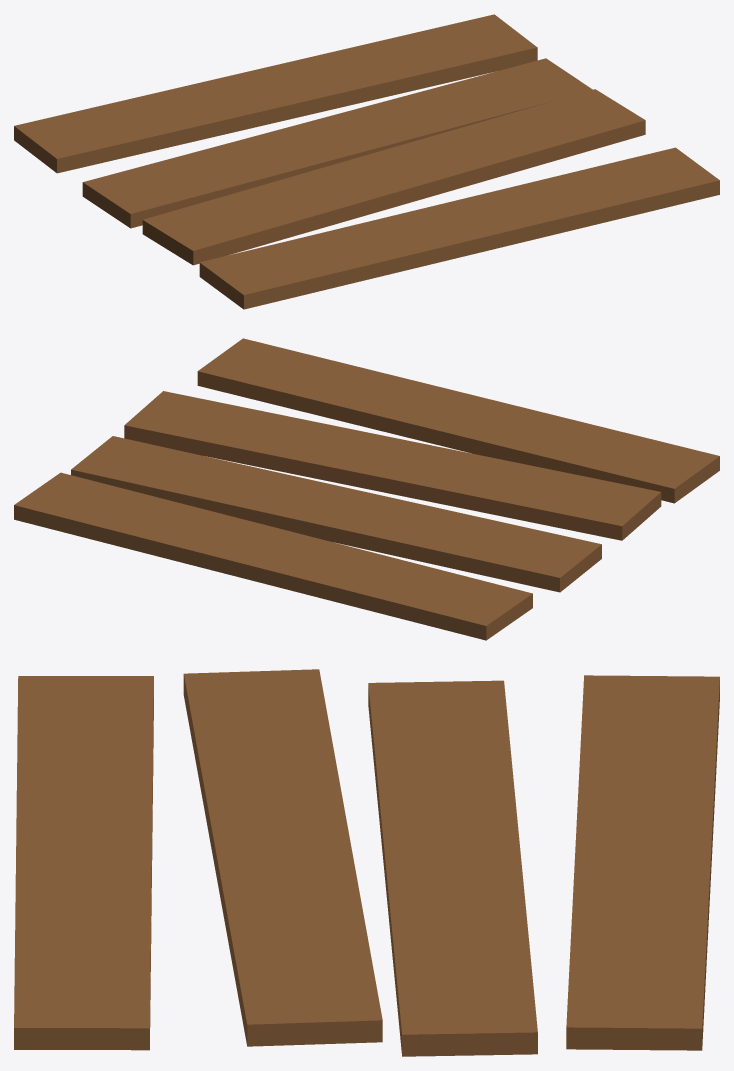
The model's file is jettiboard_04_a.fbx.
3 renders of one model, top to bottom at view 1: azimuth 30°, elevation 25°; view 2: azimuth 150°, elevation 25°; view 3: azimuth 270°, elevation 25°, orthographic. The views are drawn at different scales.
Visible parts, largest first — view 1: JettiBoard_04_a; view 2: JettiBoard_04_a; view 3: JettiBoard_04_a.
Part boxes in pixels (box(x1,y1,x2,y2)): JettiBoard_04_a: box(14, 14, 719, 309); JettiBoard_04_a: box(14, 338, 719, 640); JettiBoard_04_a: box(14, 669, 719, 1056).
Size of the model in its own units: 41.86 by 35.14 by 1.79.
